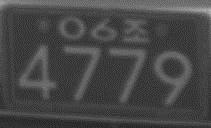0: (57, 14, 85, 40)
4: (17, 43, 57, 100)
6: (89, 16, 117, 41)
7: (61, 43, 101, 101), (107, 46, 147, 104)
9: (152, 49, 193, 107)
조: (121, 17, 150, 43)
